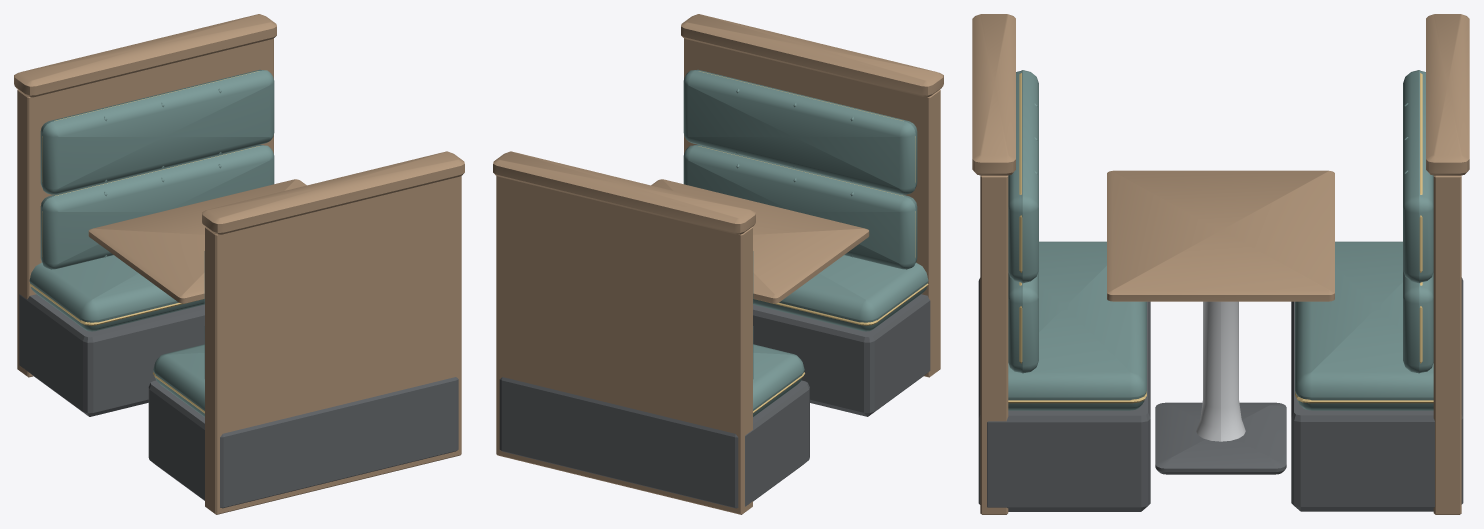
File: restaurant-kitchen-and-dining-booth-2-cover-4581f965__16501.glb
3 views of the same model, side by side, from view 1: azimuth 30°, elevation 25°; view 2: azimuth 150°, elevation 25°; view 3: azimuth 270°, elevation 25° (orthographic). The views are drawn at different scales.
Visible parts, largest first — view 1: booth-2-cover; view 2: booth-2-cover; view 3: booth-2-cover.
Part boxes in pixels (x1,y1,x2,y2): booth-2-cover: [14, 14, 464, 514]; booth-2-cover: [493, 14, 943, 514]; booth-2-cover: [972, 14, 1469, 514].
Bounding box in the file's own units: 1.12 × 1.26 × 1.59.
